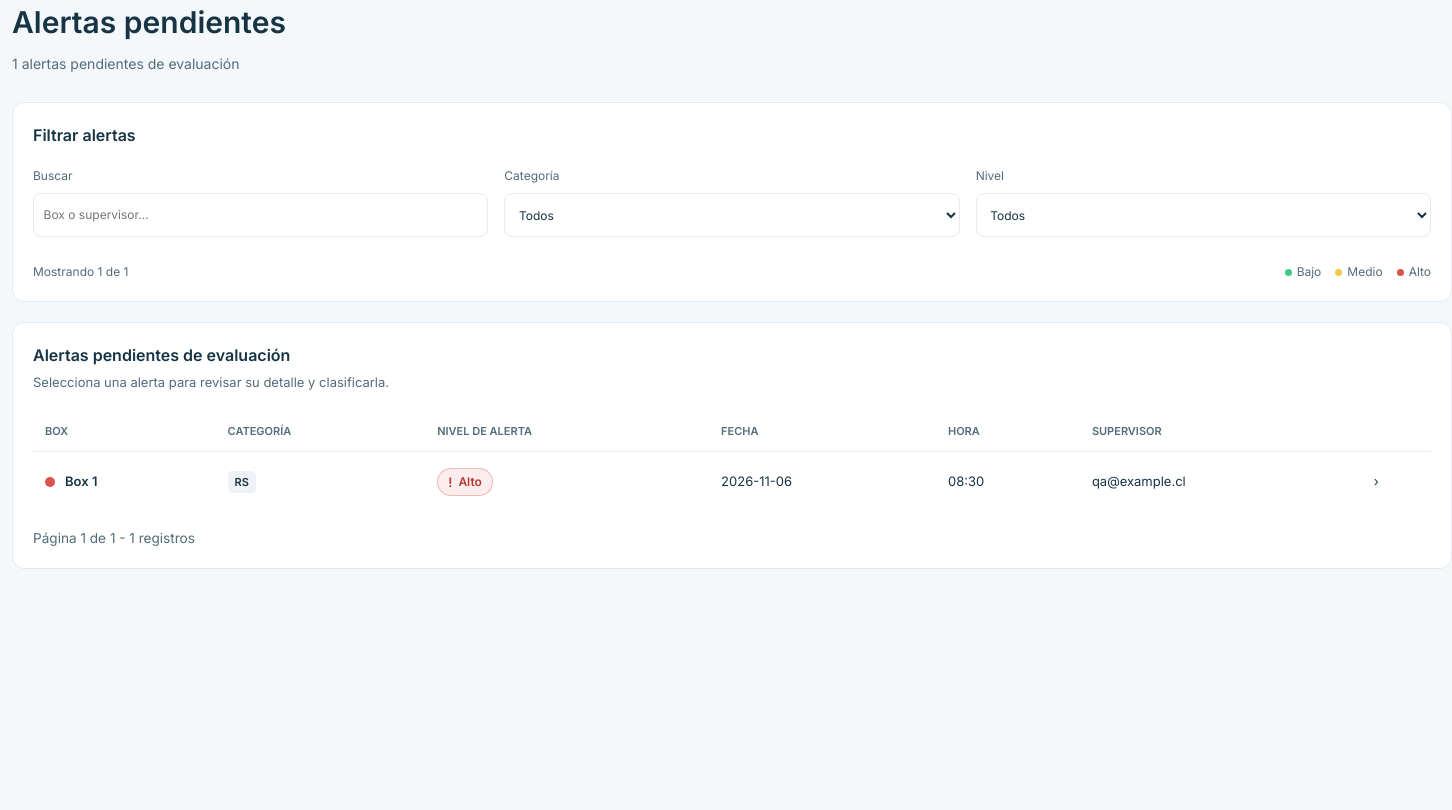
Correcciones de la verificación SCRUM-693 › recibe la nueva lista sin perder el filtro de búsqueda
The image size is (1452, 810).
Later steps or results of the test are not shown.
Check: the text "Box 1" is shown, box [45,472,97,491]
In the field labelled "Buscar": (261, 215) [33,193,488,237], type "Box 99"
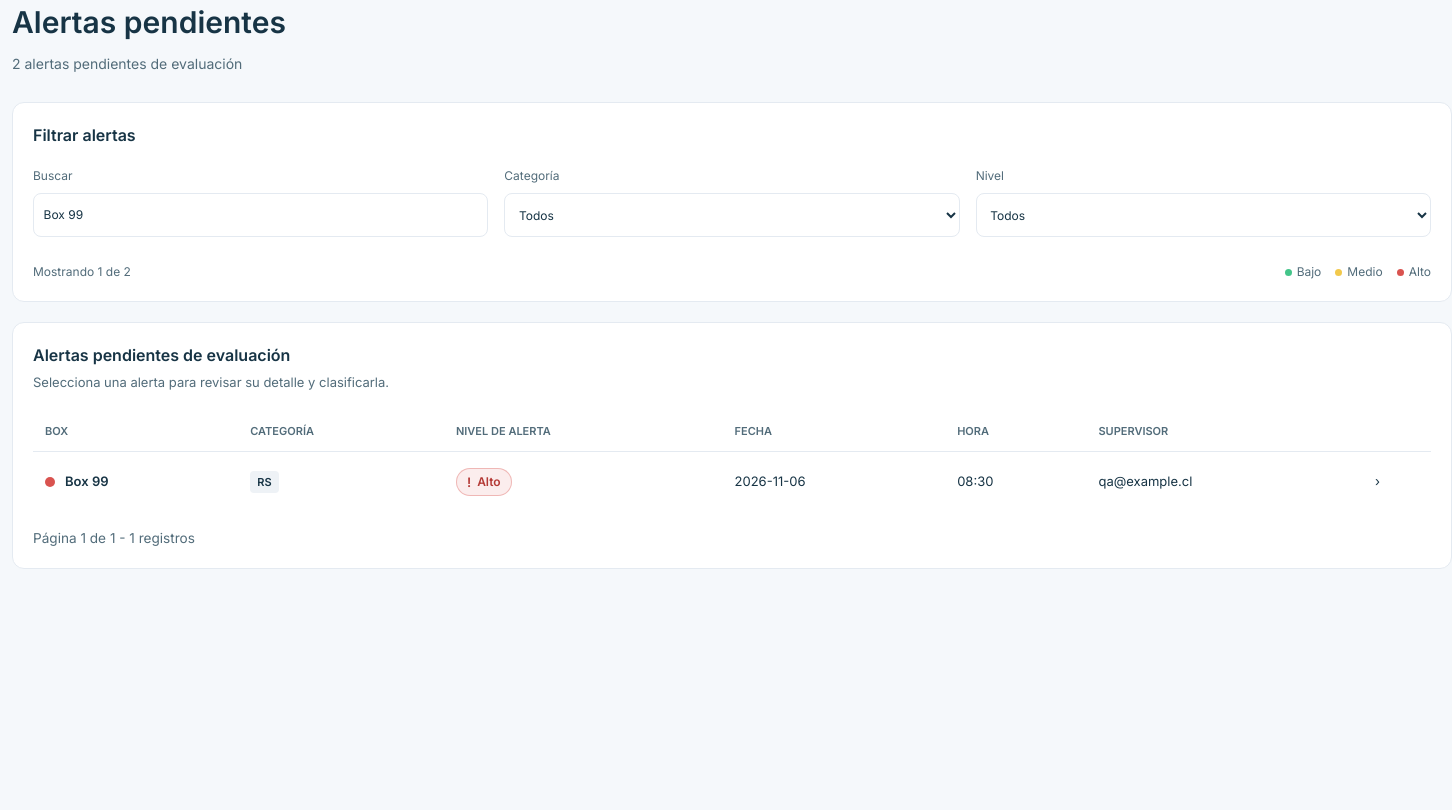
Check: the text "Box 99" is shown, box [45,472,108,491]
